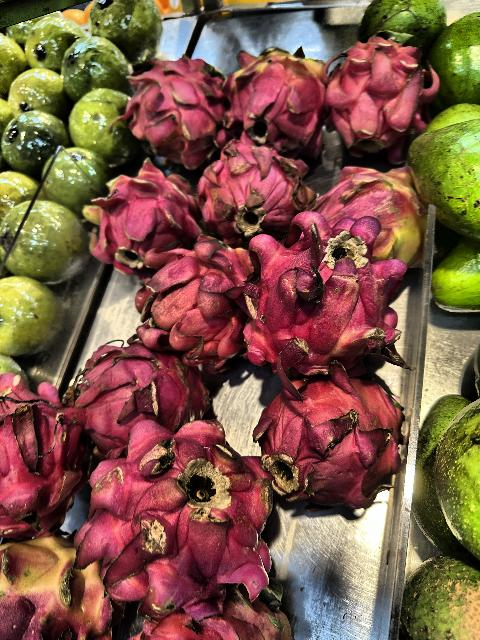buah-naga-belum-matang: (0, 522, 122, 640), (312, 145, 424, 265)
buah-naga-matang: (72, 440, 290, 608), (242, 230, 406, 378), (236, 368, 414, 504), (65, 351, 218, 454), (124, 239, 252, 359), (323, 31, 437, 165), (1, 364, 89, 530), (192, 130, 316, 244), (227, 40, 323, 164), (86, 165, 200, 265), (128, 57, 223, 165)
